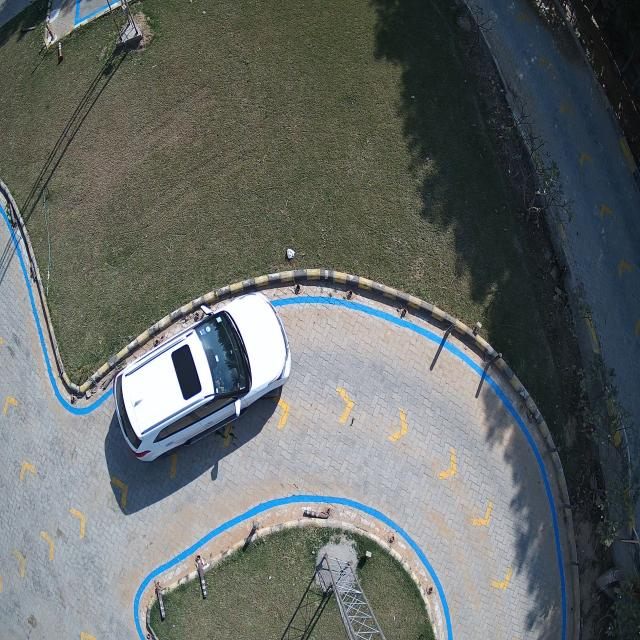car: (112, 293, 291, 462)
